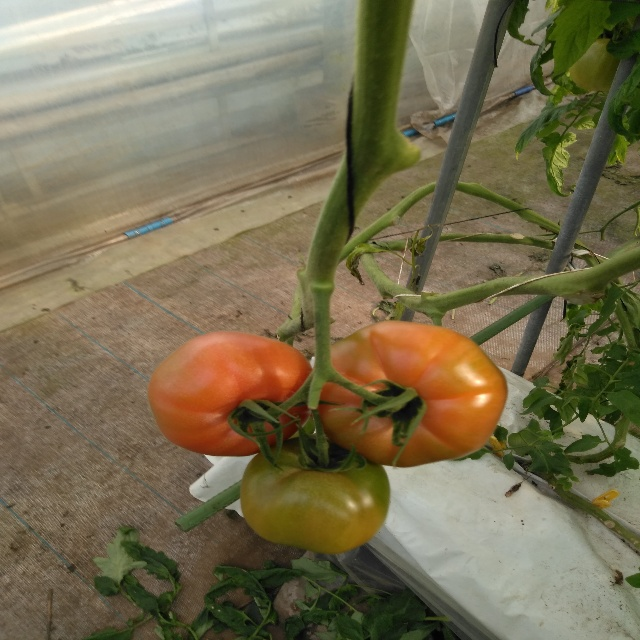b_green: (568, 39, 621, 92)
b_half_ripened: (309, 319, 508, 468), (147, 331, 314, 457), (240, 435, 389, 553)
